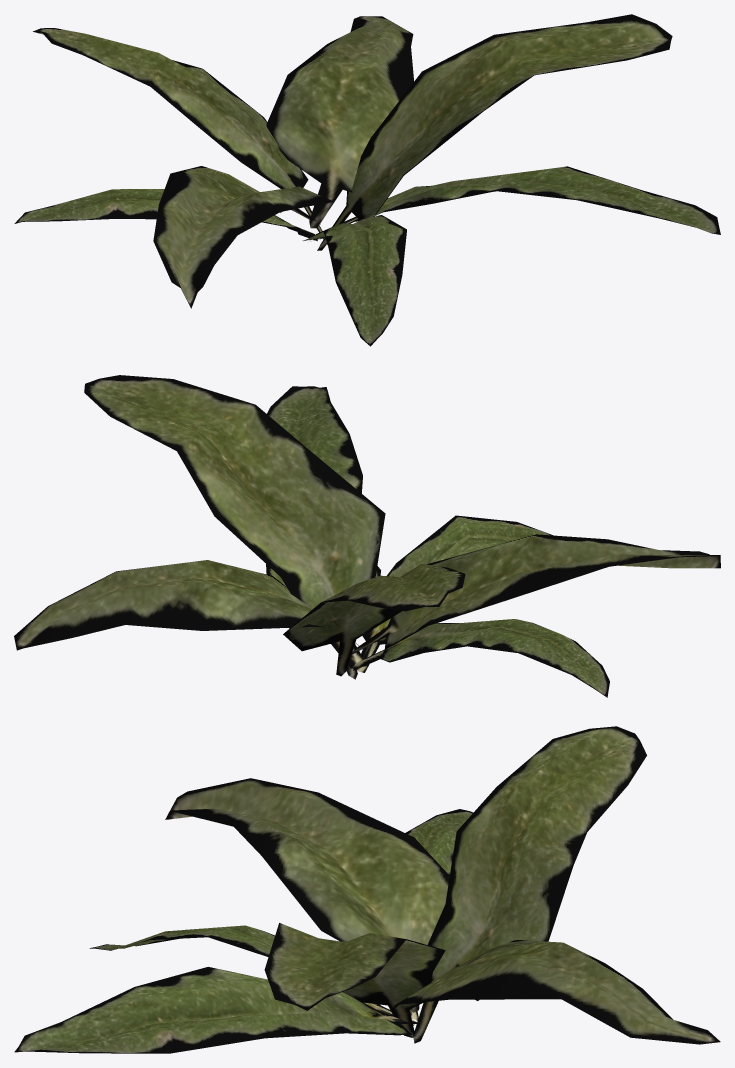
The model's file is flower_gazania_05.glb.
The picture shows the model from 3 angles, top to bottom: view 1: azimuth 30°, elevation 25°; view 2: azimuth 150°, elevation 25°; view 3: azimuth 270°, elevation 25°; orthographic projection. The views are drawn at different scales.
Visible parts, largest first — view 1: flower_gazania; view 2: flower_gazania; view 3: flower_gazania.
Boxes of the visible parts, bbox=[...] form: flower_gazania: bbox=[14, 14, 720, 346]; flower_gazania: bbox=[14, 375, 720, 697]; flower_gazania: bbox=[14, 726, 720, 1053].
Bounding box in the file's own units: 0.1382 × 0.0445 × 0.1333.
1 material, 1 textured.
